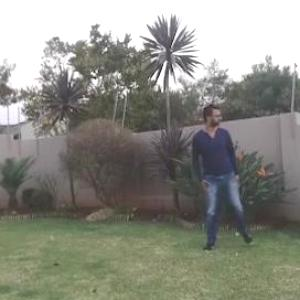follow: (195, 100, 238, 250)
